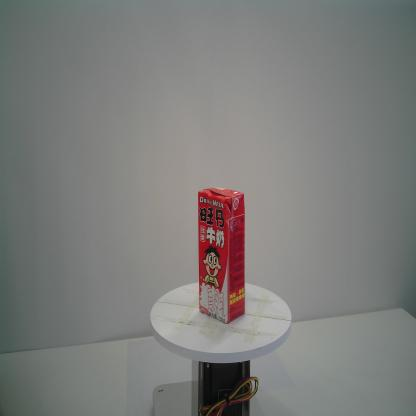Milk: (196, 185, 246, 326)
